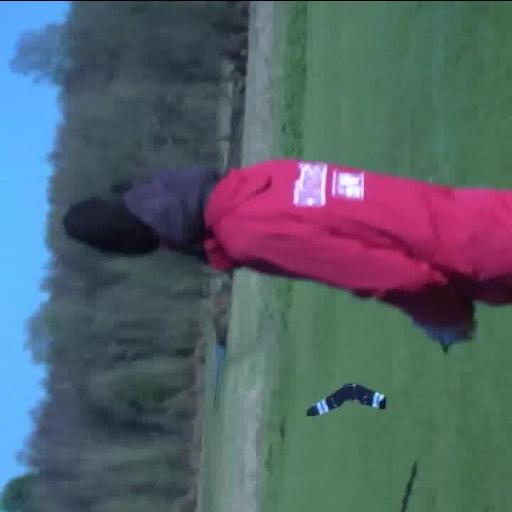uav: (303, 378, 391, 424)
